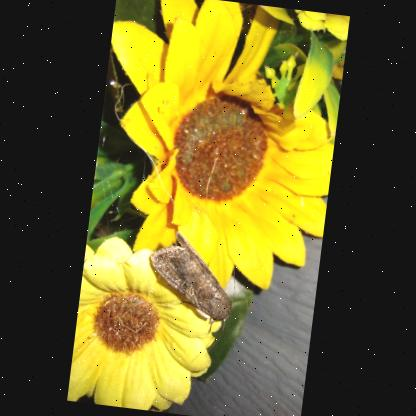Fall Armyworm Moth: (136, 223, 245, 360)
